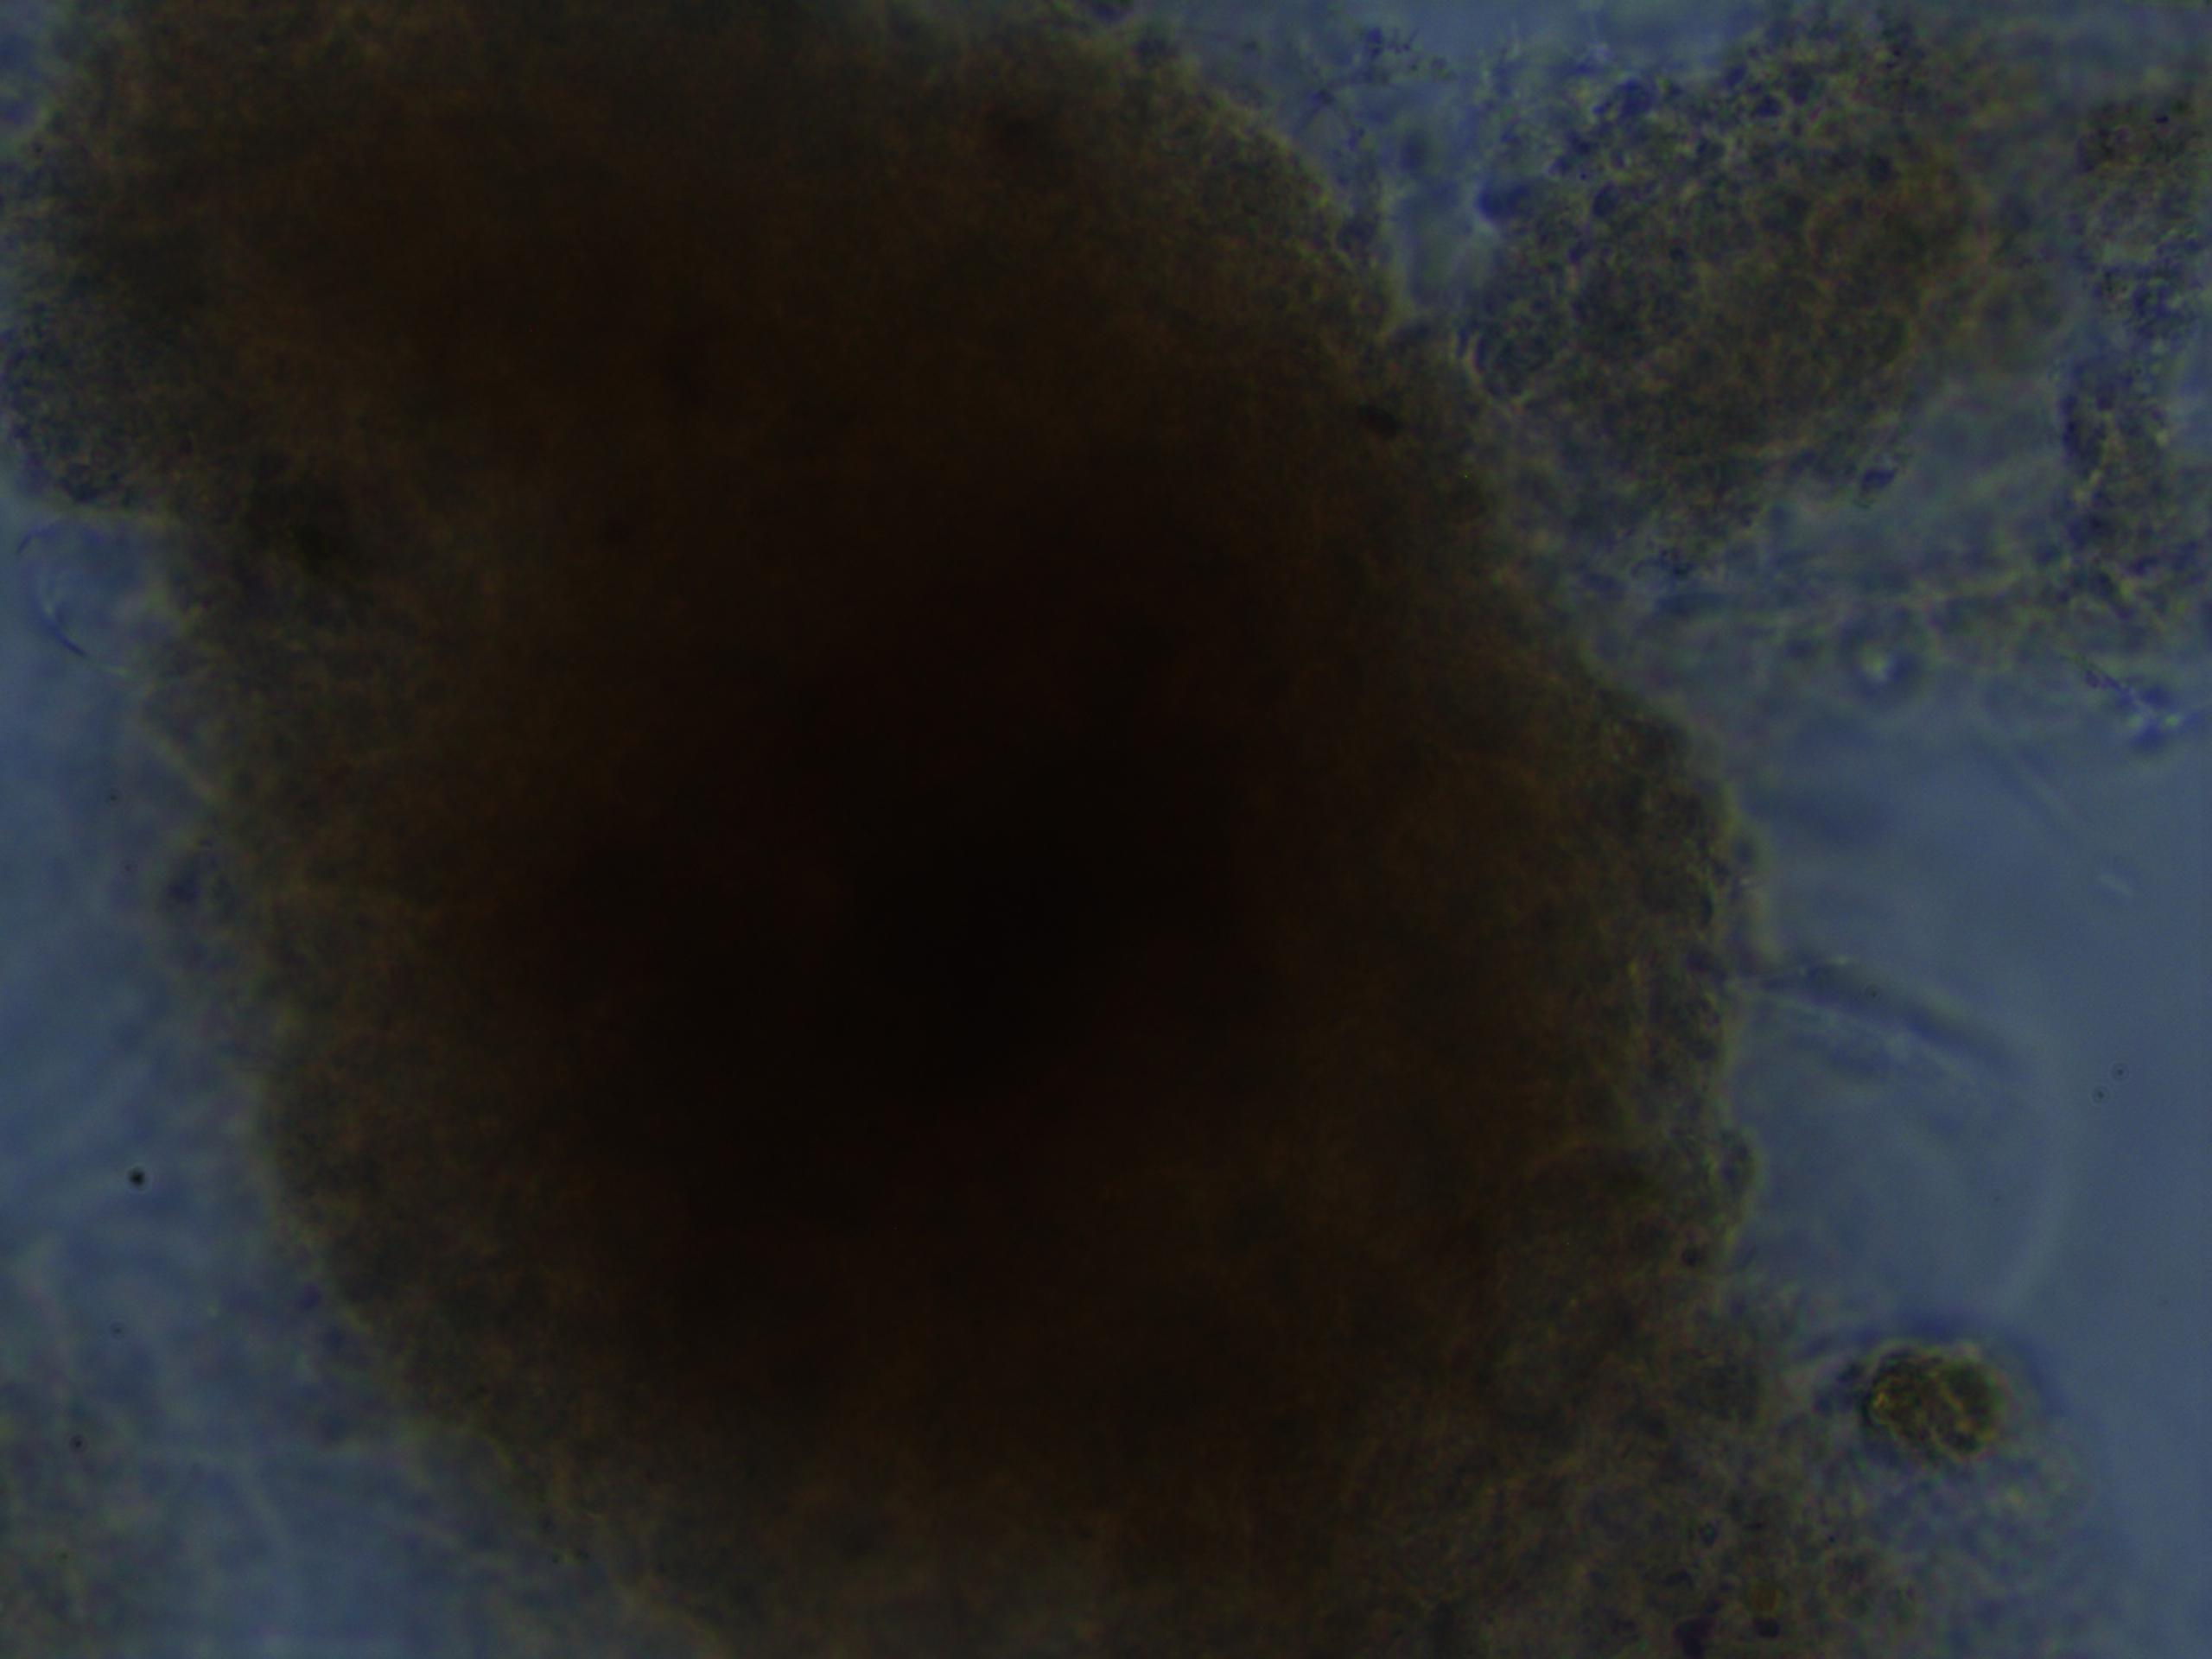spherical_floc: (0, 0, 1858, 1659)
